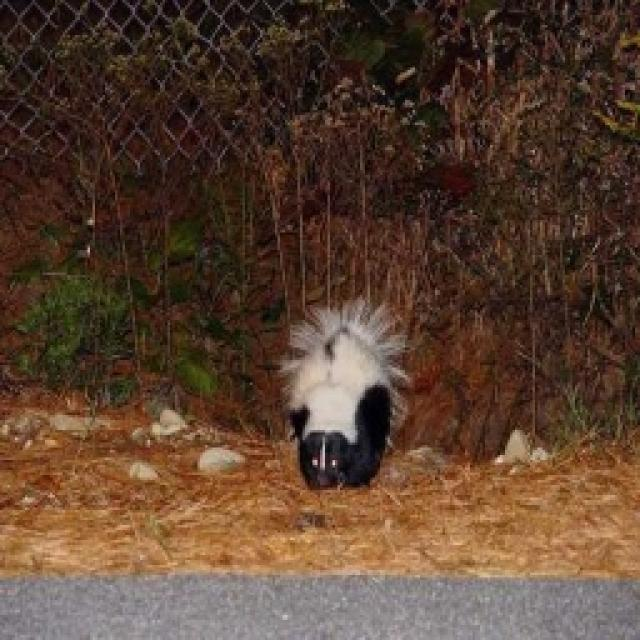Skunk: (247, 276, 466, 524)
